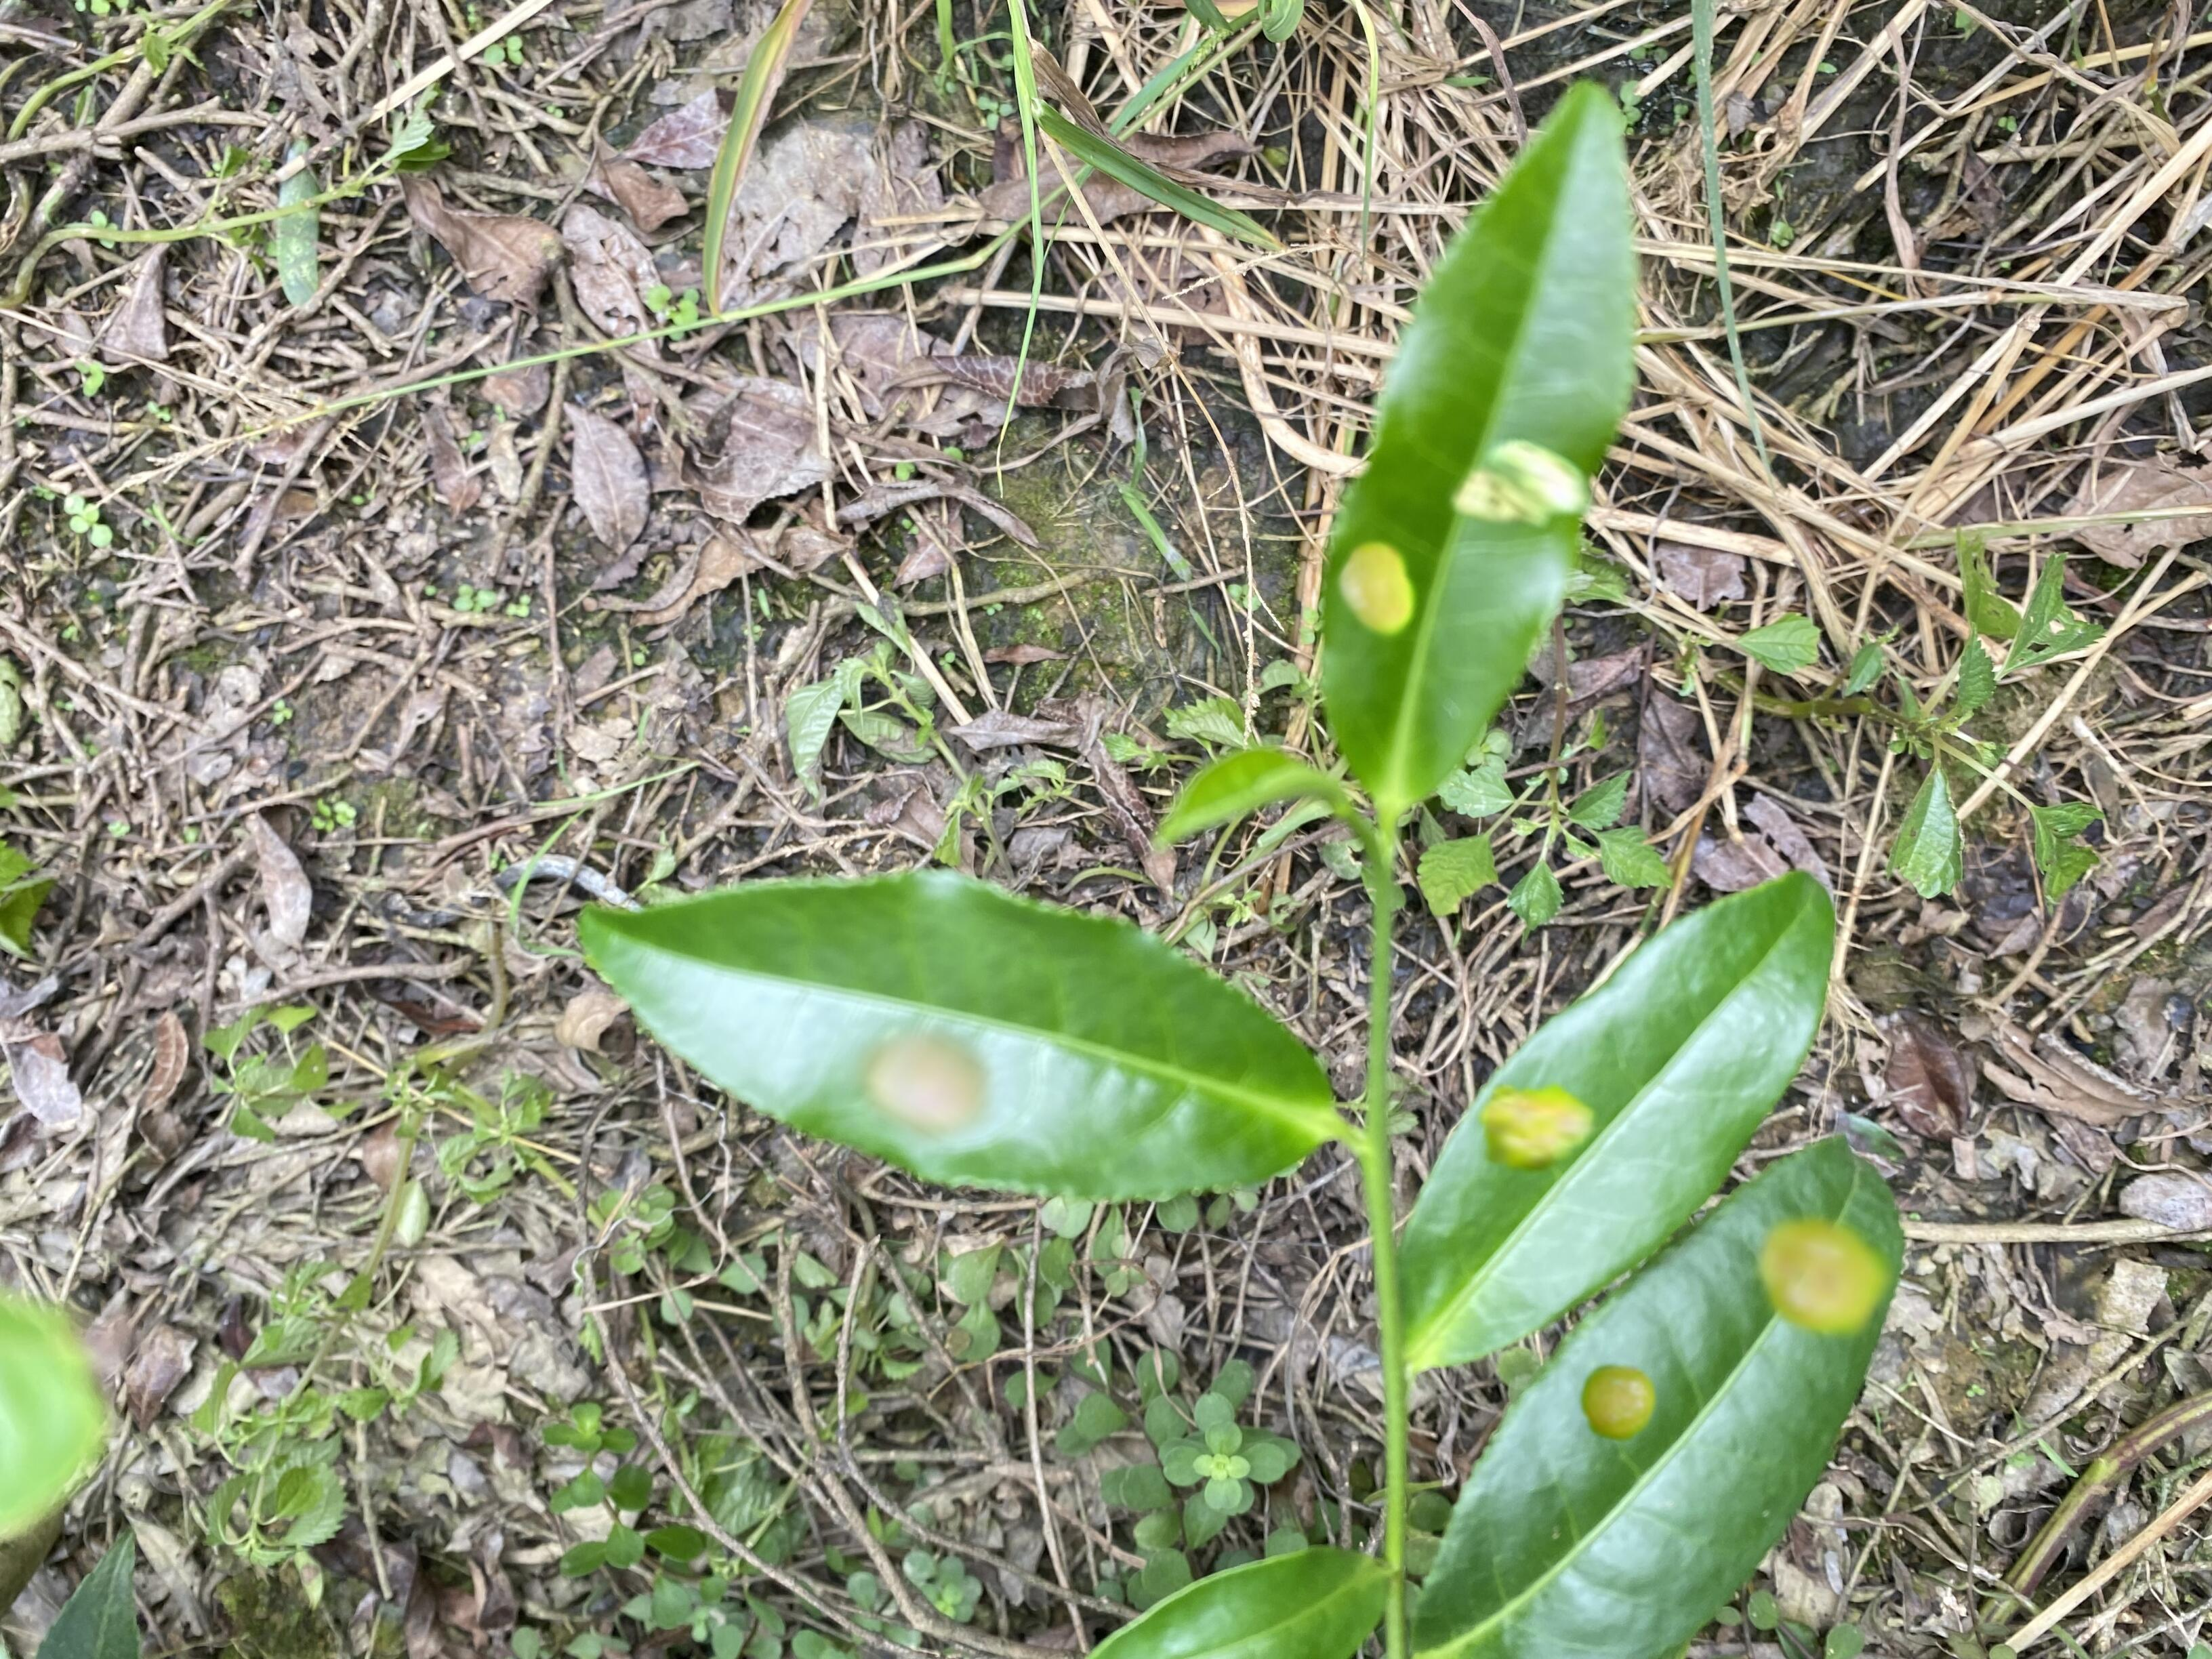chabing_high: (1404, 1133, 1907, 1656), (1320, 78, 1644, 819)
chabing_low: (578, 868, 1339, 1204), (1397, 873, 1832, 1371)
